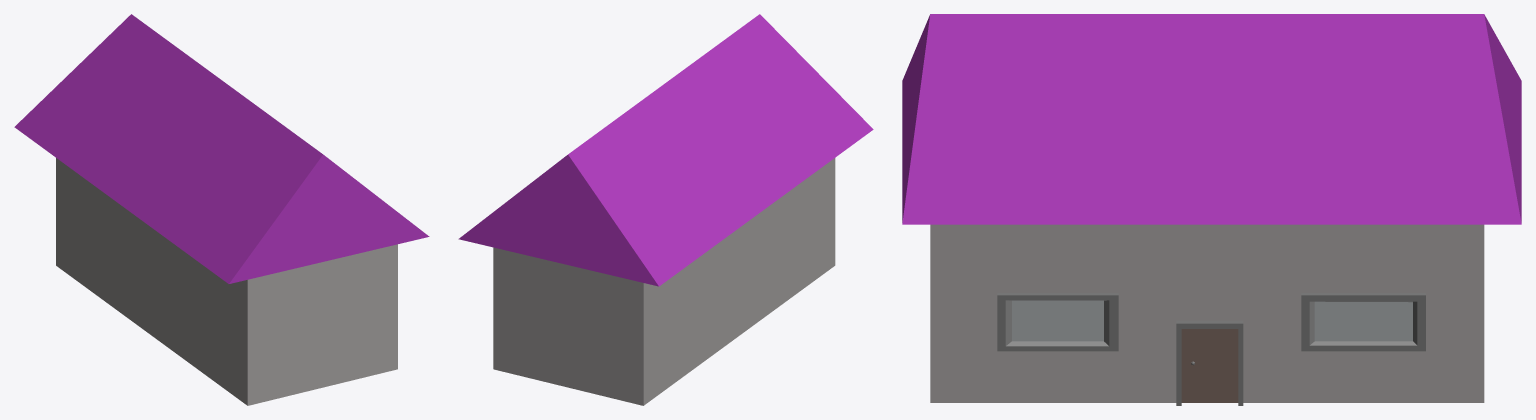
The model's file is Small3.fbx.
3 views of the same model, side by side, from view 1: azimuth 30°, elevation 25°; view 2: azimuth 150°, elevation 25°; view 3: azimuth 270°, elevation 25° (orthographic). The views are drawn at different scales.
Parts seen in each view (by area): view 1: pCube2; view 2: pCube2; view 3: pCube2.
Part boxes in pixels (x1=…): pCube2: x1=14, y1=14, x2=429, y2=405; pCube2: x1=458, y1=14, x2=873, y2=405; pCube2: x1=902, y1=14, x2=1521, y2=405.
Bounding box in the file's own units: 7.99 × 8.86 × 14.79.
